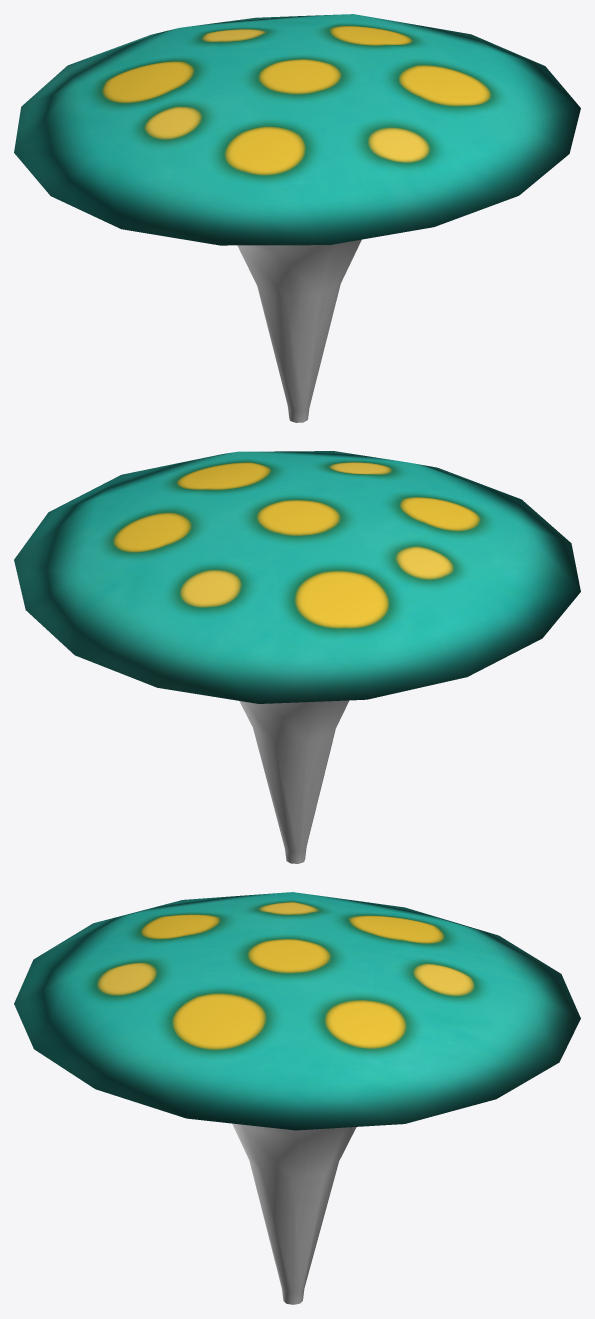
File: Mushroom_Straight1_Blue.fbx
3 renders of one model, top to bottom at view 1: azimuth 30°, elevation 25°; view 2: azimuth 150°, elevation 25°; view 3: azimuth 270°, elevation 25°, orthographic.
Visible parts, largest first — view 1: Mesh; view 2: Mesh; view 3: Mesh.
Part boxes in pixels (left/top/right/bottom): Mesh: left=14, top=14, right=580, bottom=422; Mesh: left=14, top=451, right=580, bottom=863; Mesh: left=14, top=892, right=580, bottom=1304.
Bounding box in the file's own units: 231 × 155 × 228.
